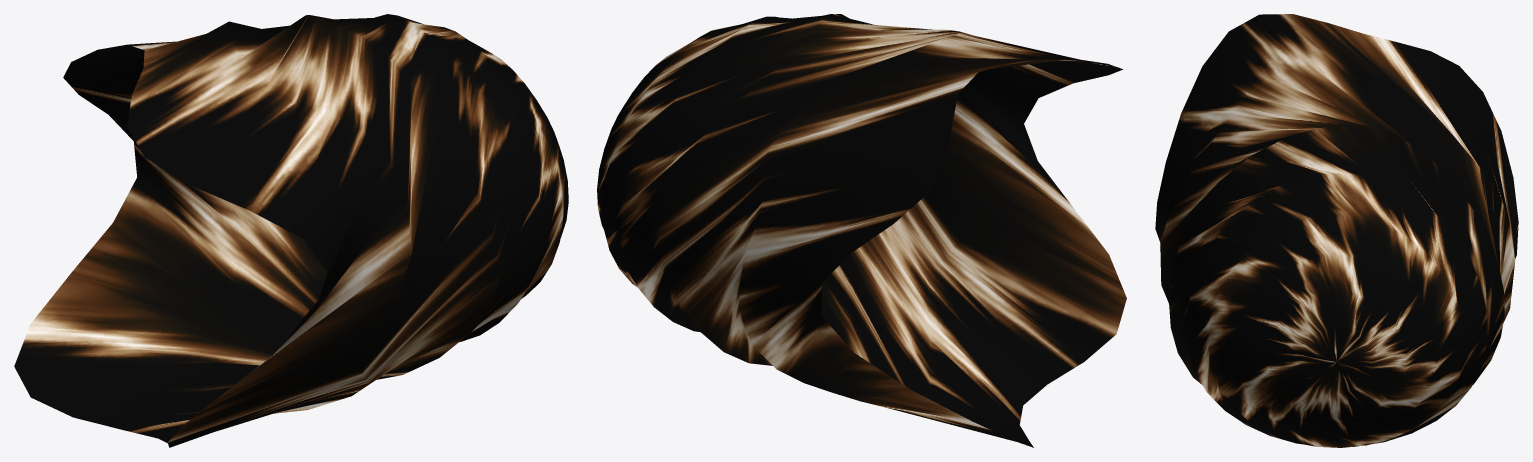
Rendered from chongfengqilang.FBX.
3 views of the same model, side by side, from view 1: azimuth 30°, elevation 25°; view 2: azimuth 150°, elevation 25°; view 3: azimuth 270°, elevation 25° (orthographic). The views are drawn at different scales.
Visible parts, largest first — view 1: Sphere001; view 2: Sphere001; view 3: Sphere001.
Boxes of the visible parts, x1,y1,x2,y2 form: Sphere001: [14, 14, 568, 447]; Sphere001: [597, 14, 1126, 447]; Sphere001: [1155, 14, 1518, 447].
Bounding box in the file's own units: 27.59 × 20.85 × 20.85.
1 material, 1 textured.
